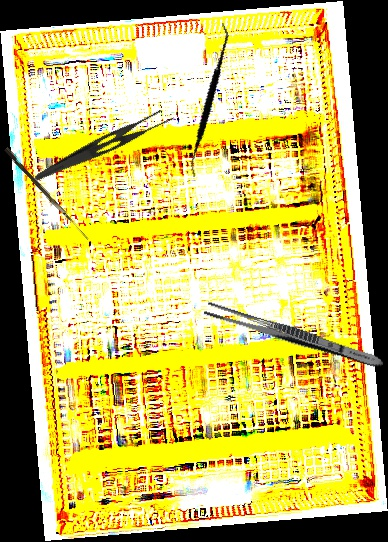Dressing Forceps: (33, 99, 176, 197), (202, 300, 386, 372)
Hook Surgical: (2, 146, 93, 241)
Spatula Surgical: (150, 22, 267, 178)
